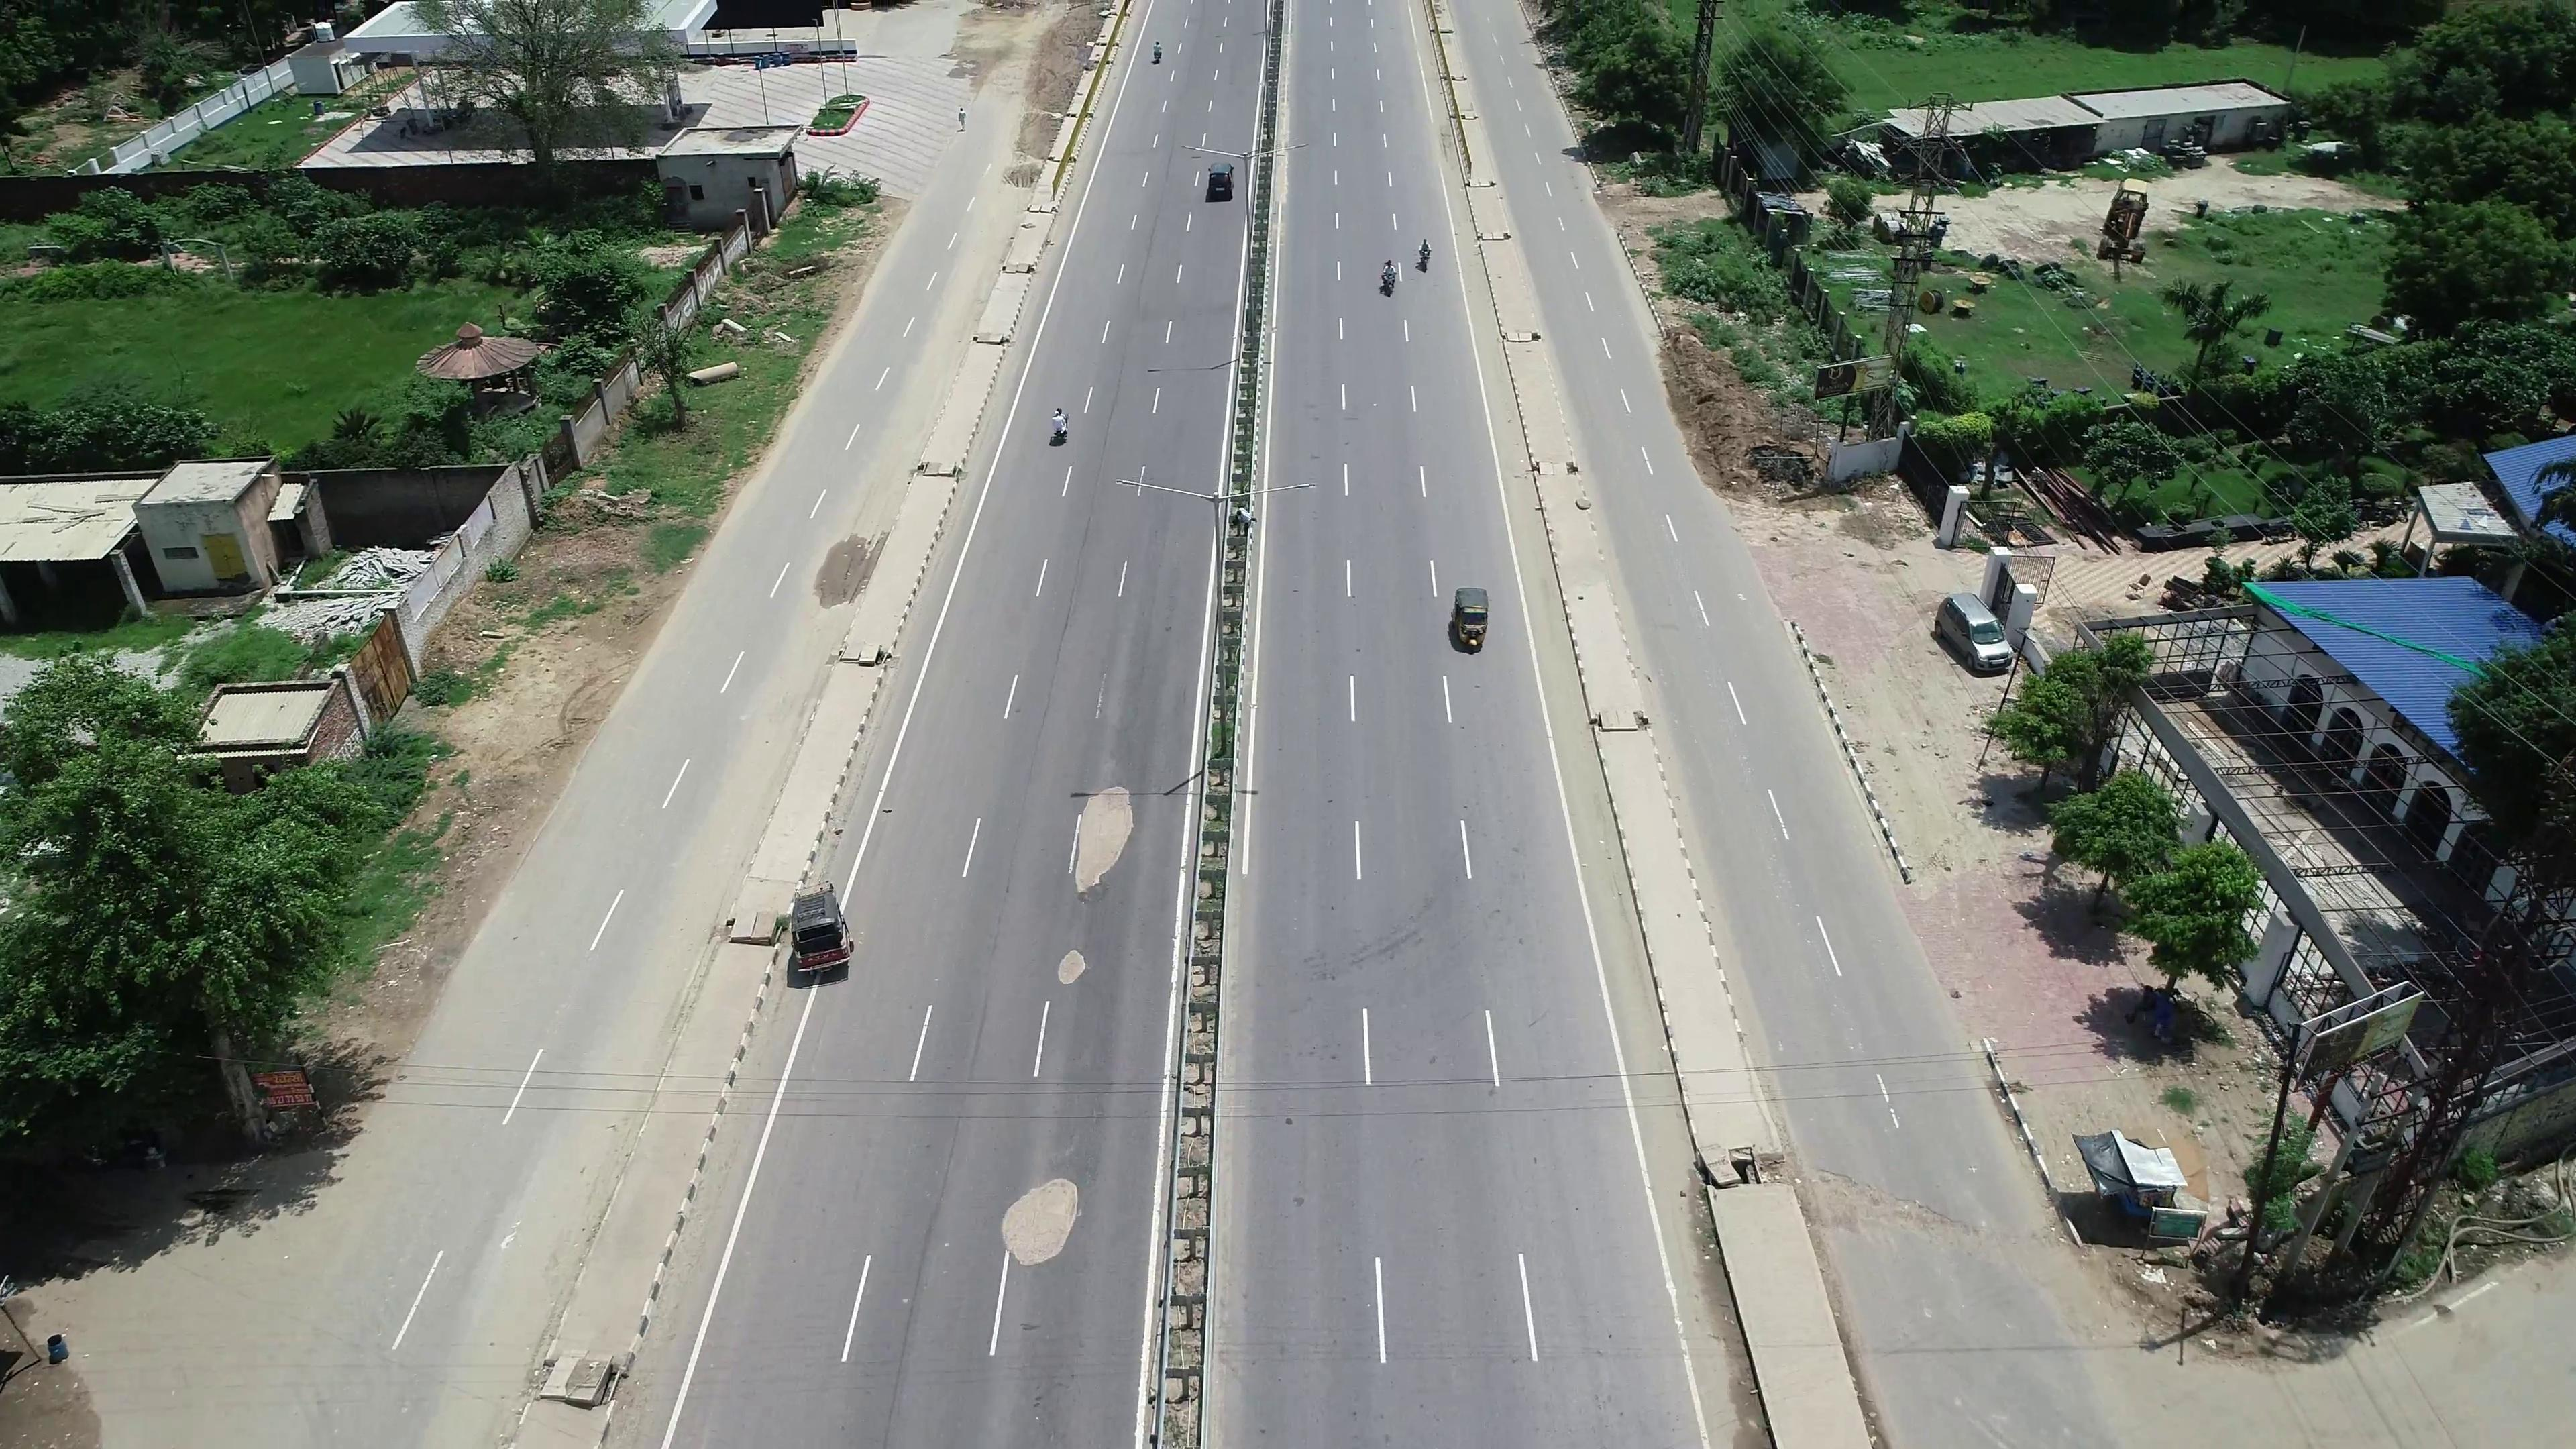Potholes: (1026, 708, 1148, 916), (962, 1146, 1102, 1279), (1026, 922, 1109, 1010)
